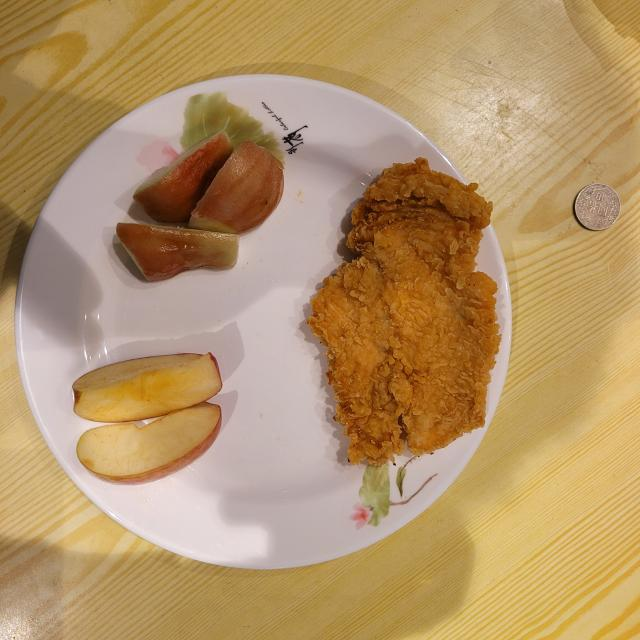apple -sliced-: (72, 352, 222, 484)
coin: (575, 184, 620, 230)
fried chicken cutlet: (308, 158, 500, 465)
